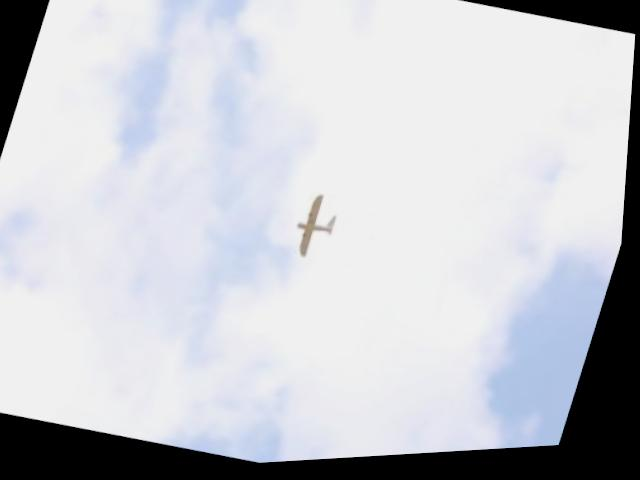uav: (287, 185, 349, 274)
